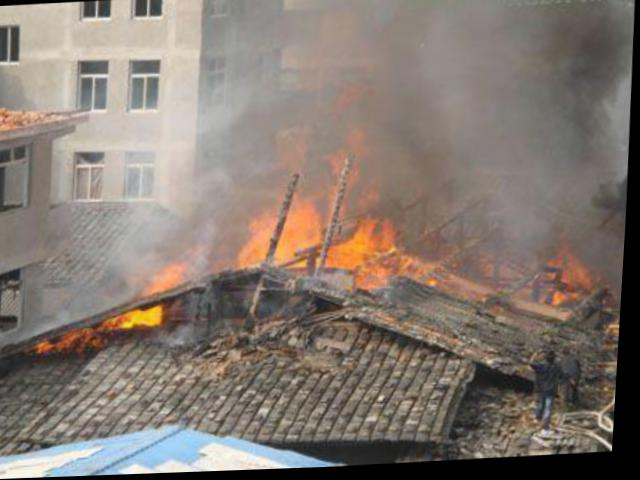fire: (332, 220, 402, 267), (279, 203, 327, 265), (243, 210, 282, 263), (563, 253, 600, 290), (148, 265, 192, 294), (119, 306, 168, 329), (357, 266, 394, 293), (559, 293, 582, 308)
